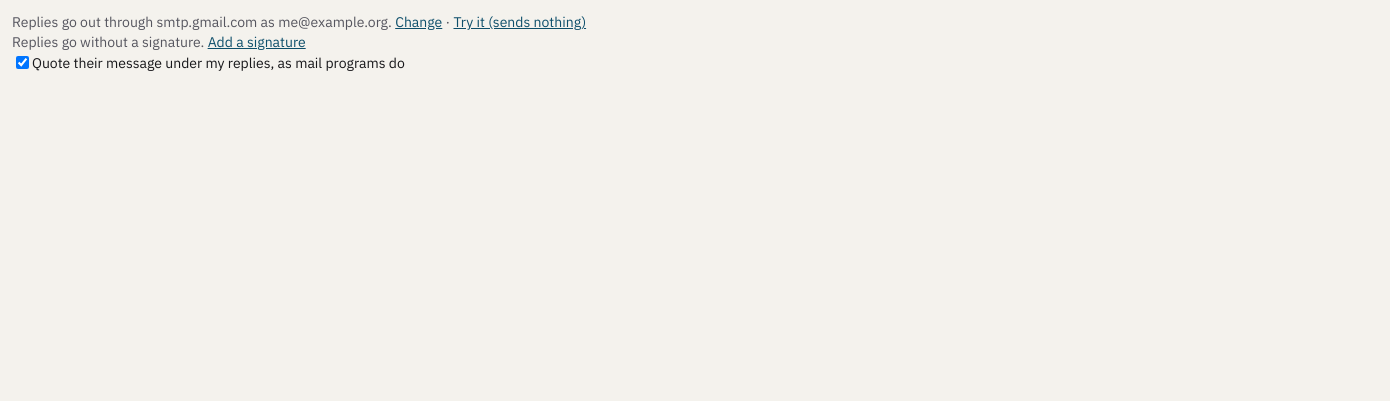
how a mailbox sends › keeps the form open with the server's answer when the check fails
Click the button "Change" at (419, 22), box [395,12,442,32]
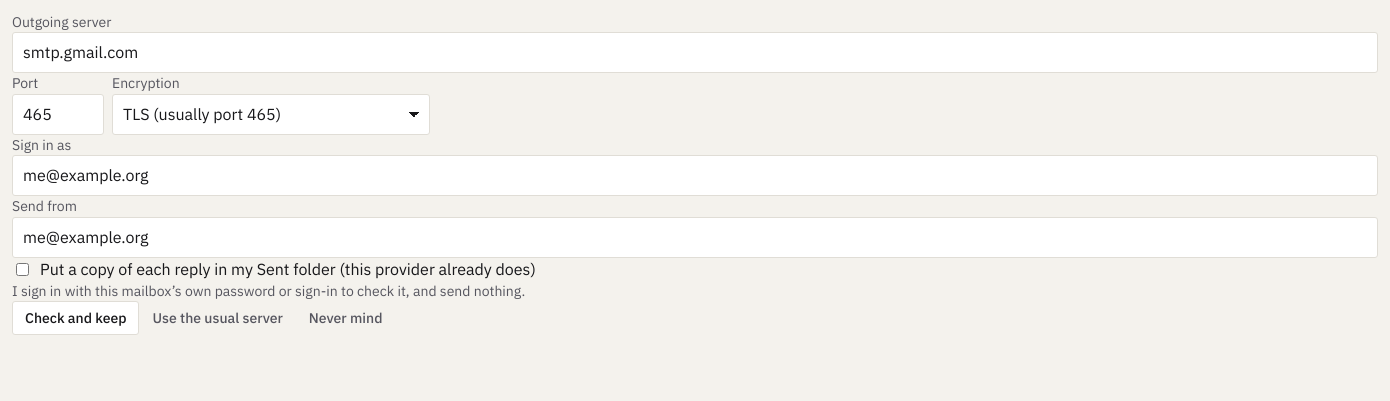
Click the button "Check and keep" at (76, 318), box [12,301,140,335]
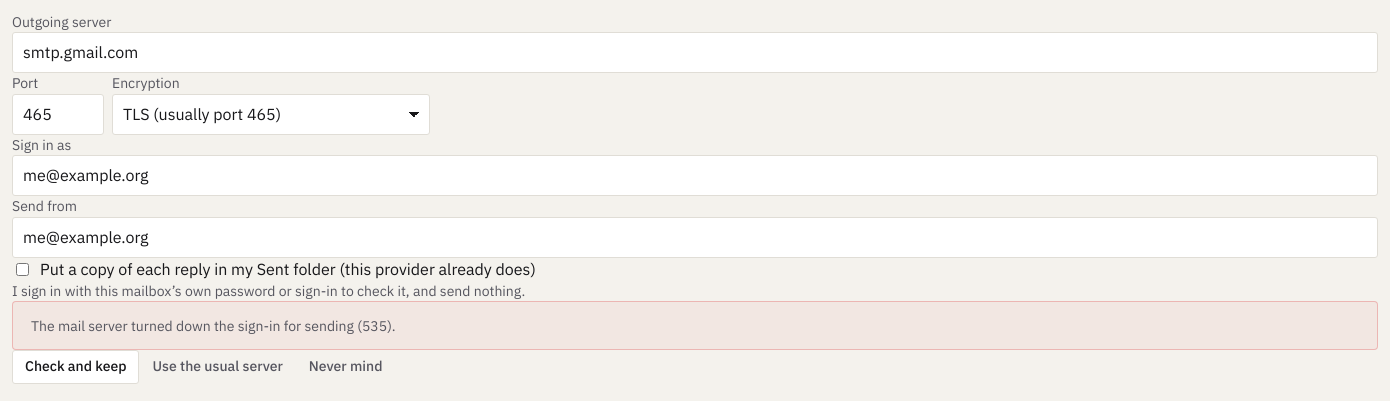
Expected: the button "Use the usual server" is shown, [140,350,296,384]
Expected: the text "The mail server turned down the sign-in for sending (535)." is shown, [31,316,396,337]
